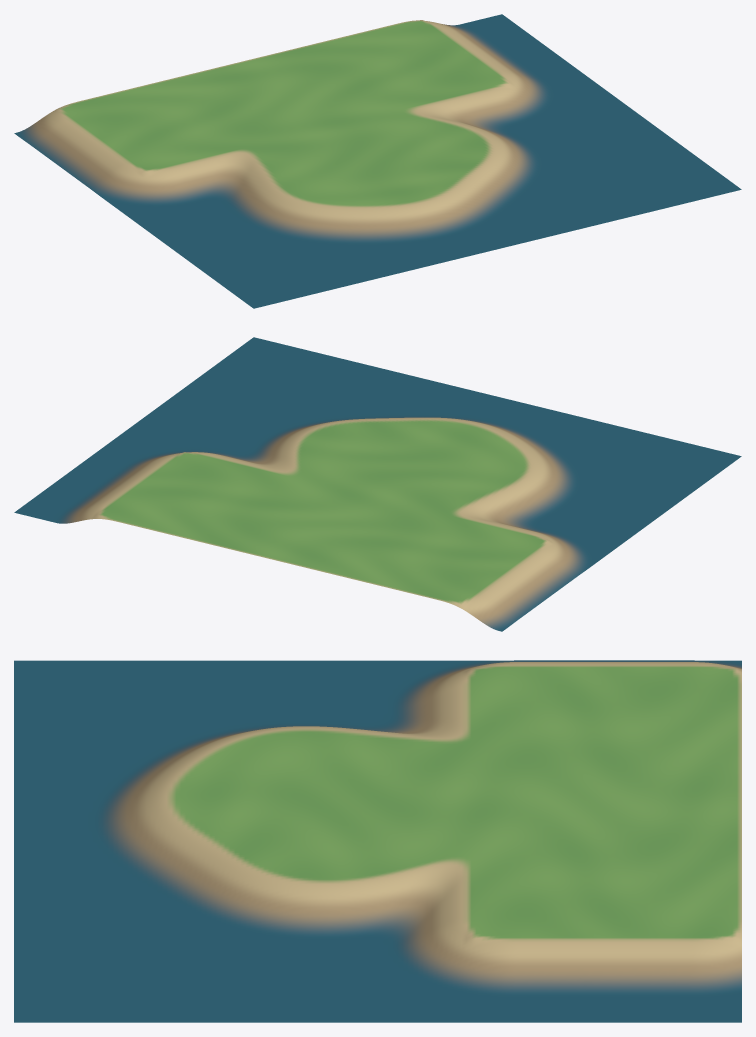
Rendered from terrain_s0.glb.
3 views of the same model, one above another, from view 1: azimuth 30°, elevation 25°; view 2: azimuth 150°, elevation 25°; view 3: azimuth 270°, elevation 25° (orthographic). The views are drawn at different scales.
Parts seen in each view (by area): view 1: Terrain; view 2: Terrain; view 3: Terrain.
Part boxes in pixels (x1=…): Terrain: x1=14, y1=14, x2=741, y2=308; Terrain: x1=14, y1=337, x2=741, y2=631; Terrain: x1=14, y1=660, x2=741, y2=1022.
Bounding box in the file's own units: 17.4 × 0.55 × 14.8.
